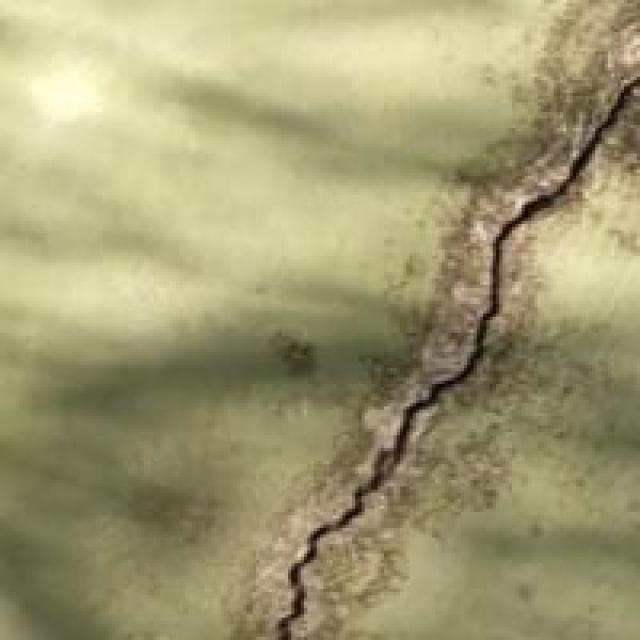Crack: (192, 58, 637, 636)
